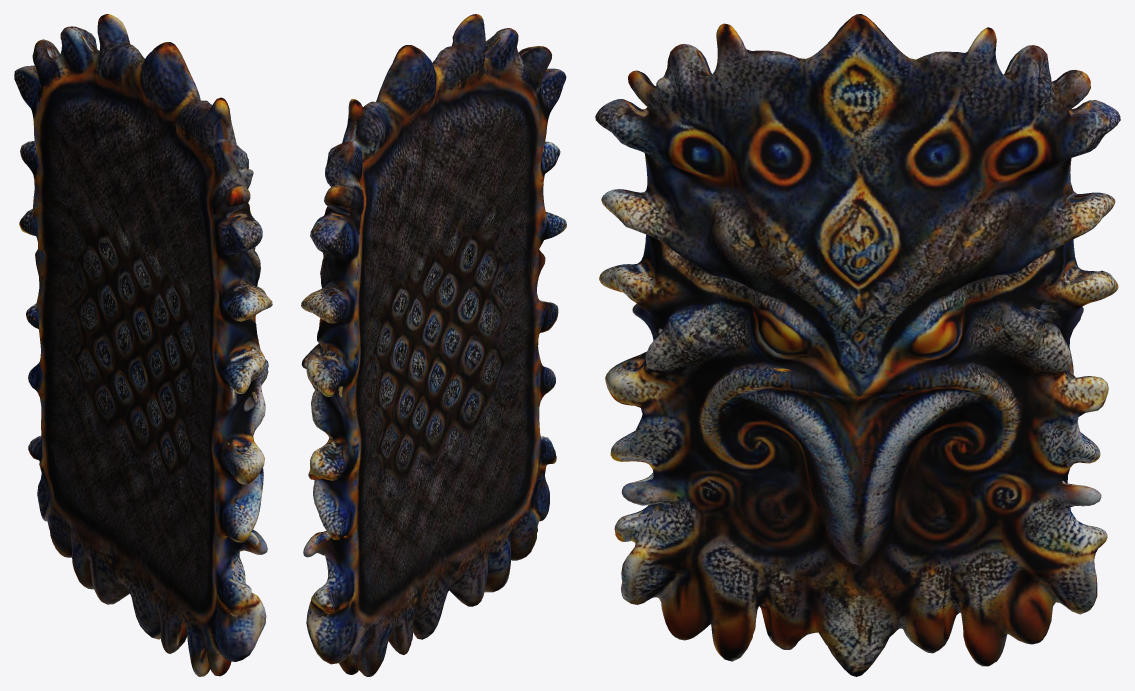
File: f699388bcc83_Adorable_Wall_Brick.fbx
3 views of the same model, side by side, from view 1: azimuth 30°, elevation 25°; view 2: azimuth 150°, elevation 25°; view 3: azimuth 270°, elevation 25° (orthographic). The views are drawn at different scales.
Parts seen in each view (by area): view 1: mesh; view 2: mesh; view 3: mesh.
Boxes of the visible parts, bbox=[...] form: mesh: bbox=[14, 14, 272, 676]; mesh: bbox=[301, 14, 566, 676]; mesh: bbox=[595, 14, 1120, 676].
Size of the model in its own units: 17.99 by 99.82 by 71.45.
